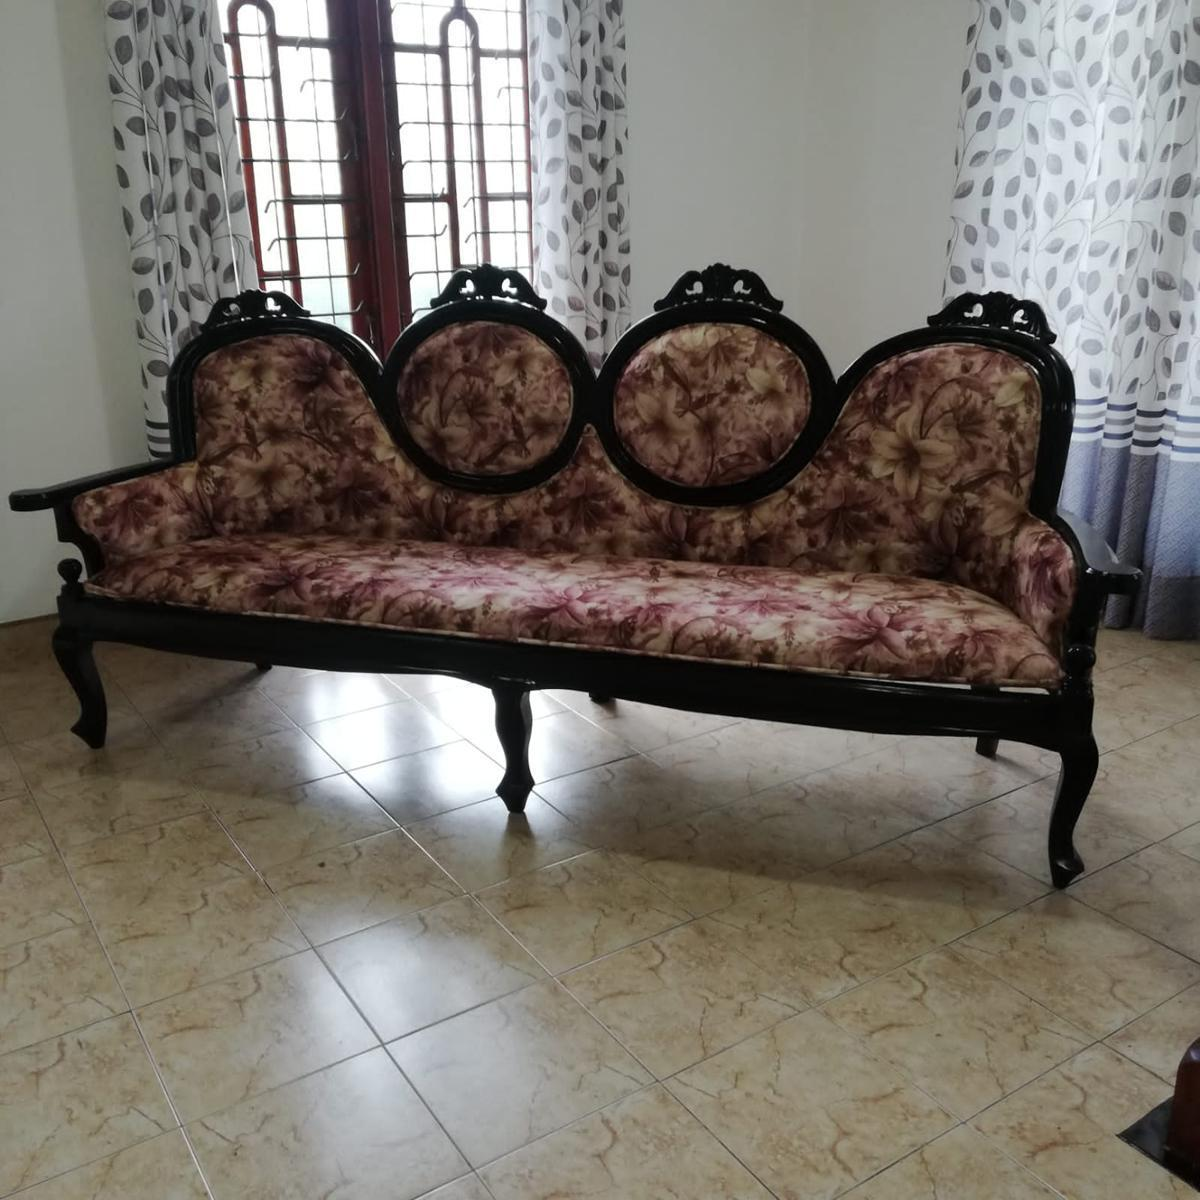Sofa: (8, 259, 1146, 890)
